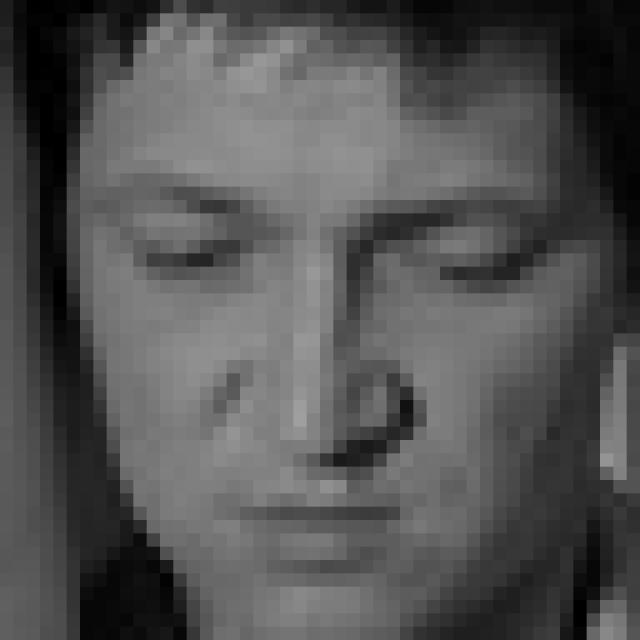sad: (79, 163, 564, 581)
